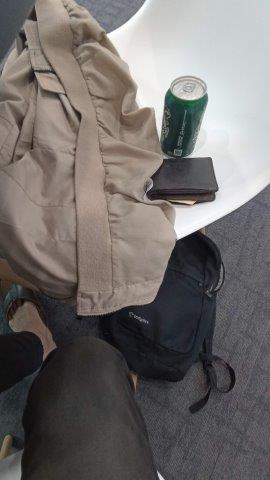kaleng: (160, 76, 208, 158)
